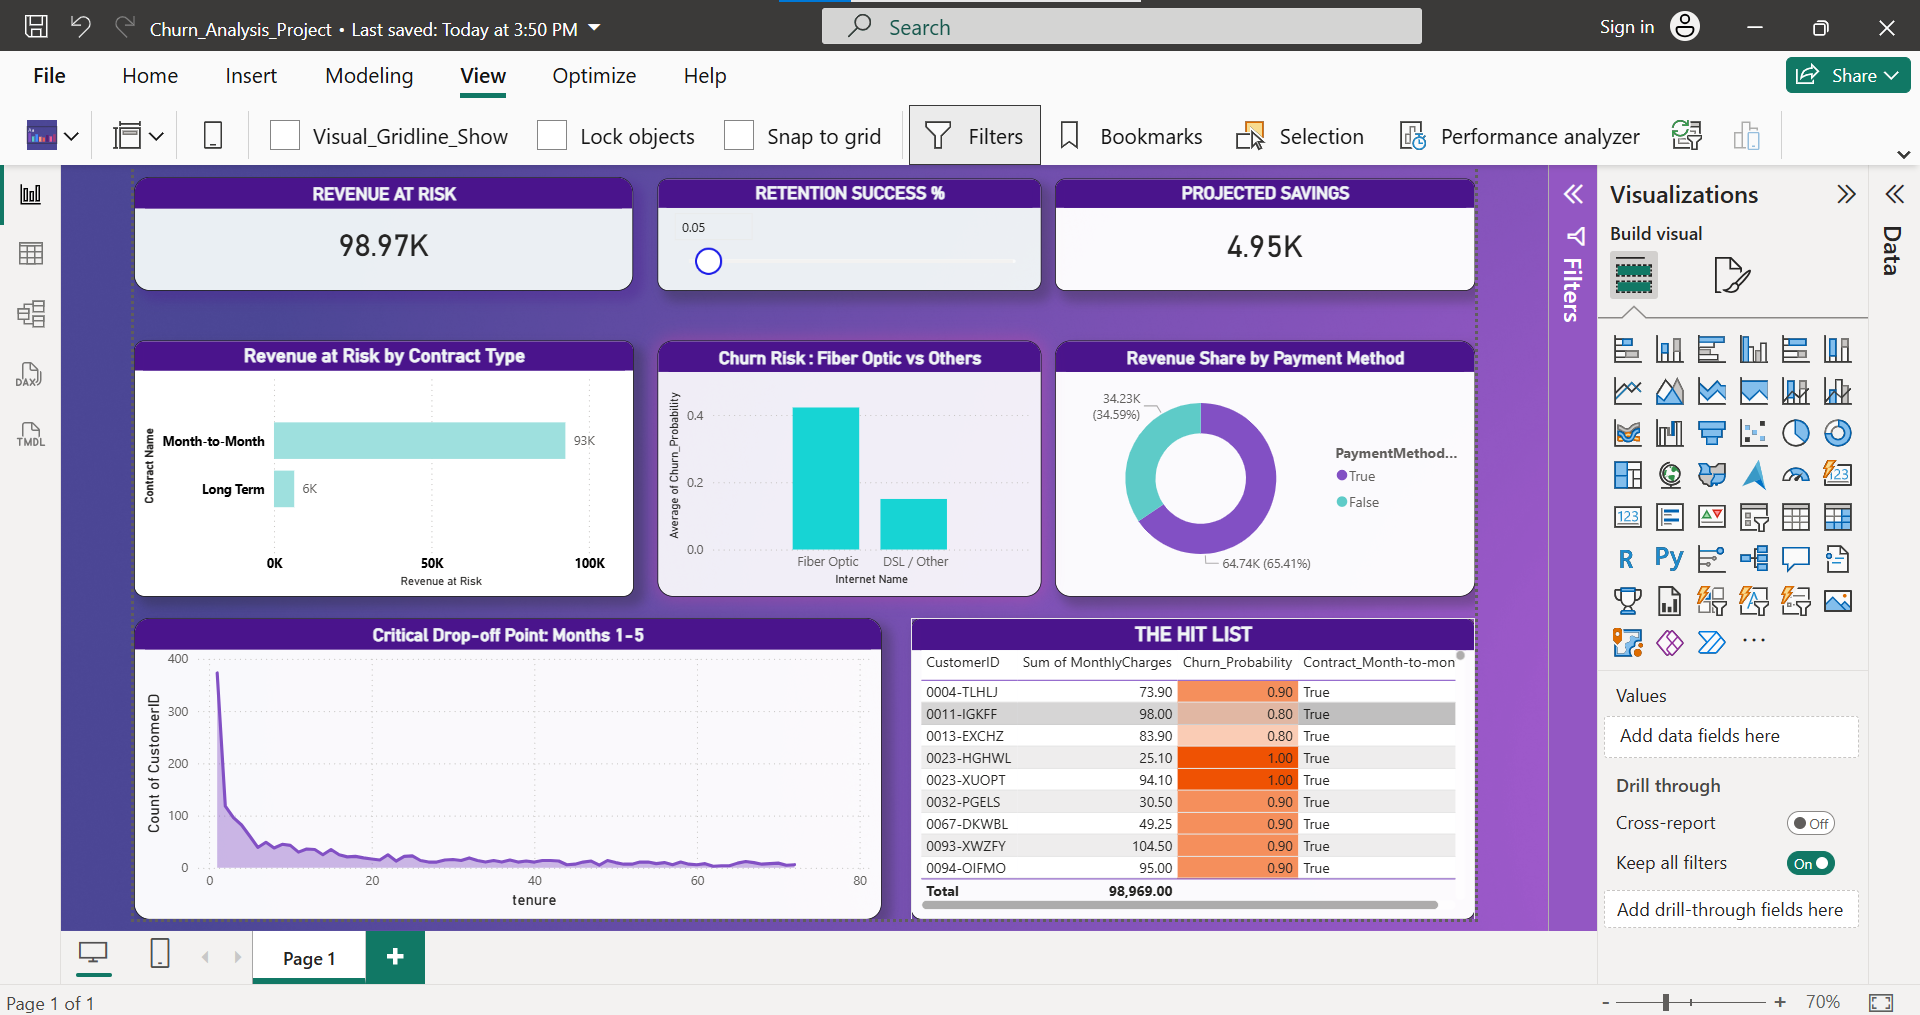

Layout of this report page (visuals, bound fields, positions):
{"tool":"powerbi","page":{"name":"Page 1","canvas":[1280,720],"ordinal":0},"visuals":[{"type":"slicer","title":"RETENTION SUCCESS %","fields":{"Values":["Retention Success %.Retention Success %"]},"box":[499.9,12.9,366.7,107.4],"z":0},{"type":"card","title":"REVENUE AT RISK","fields":{"Values":["Ready_For_PowerBI.Revenue at Risk"]},"box":[0,11.5,477,108.9],"z":1},{"type":"card","title":"PROJECTED SAVINGS ","fields":{"Values":["Ready_For_PowerBI.Projected Savings"]},"box":[879.5,12.9,401.1,107.4],"z":2},{"type":"clusteredBarChart","title":"Revenue at Risk by Contract Type","fields":{"Y":["Ready_For_PowerBI.Revenue at Risk"],"Category":["Ready_For_PowerBI.Contract Name"]},"box":[0,167,477.2,245],"z":3},{"type":"tableEx","title":"THE HIT LIST","fields":{"Values":["Ready_For_PowerBI.CustomerID","Sum(Ready_For_PowerBI.MonthlyCharges)","Ready_For_PowerBI.Churn_Probability","Ready_For_PowerBI.Contract_Month-to-month"]},"box":[742,432.6,538.6,287.9],"z":4},{"type":"donutChart","title":"Revenue Share by Payment Method","fields":{"Y":["Ready_For_PowerBI.Revenue at Risk"],"Category":["Ready_For_PowerBI.PaymentMethod_Electronic check"]},"box":[879.5,167.6,401.1,244.9],"z":5},{"type":"clusteredColumnChart","title":"Churn Risk : Fiber Optic vs Others ","fields":{"Y":["Avg(Ready_For_PowerBI.Churn_Probability)"],"Category":["Ready_For_PowerBI.Internet Name"]},"box":[499.9,167.6,366.7,244.9],"z":6},{"type":"areaChart","title":"Critical Drop-off Point: Months 1-5","fields":{"Category":["Ready_For_PowerBI.tenure"],"Y":["CountNonNull(Ready_For_PowerBI.CustomerID)"]},"box":[0,432.6,714.2,287.9],"z":7}]}

Visuals, with their boxes on the page's 1280x720 design canvas (x1, y1, x2, y2). These are canvas units, not pixel positions in the 1920x1015 screenshot, which may show the page scaled, cropped or inside an application window:
"RETENTION SUCCESS %" slicer: BBox(500, 13, 867, 120)
"REVENUE AT RISK" card: BBox(0, 12, 477, 120)
"PROJECTED SAVINGS " card: BBox(880, 13, 1281, 120)
"Revenue at Risk by Contract Type" clusteredBarChart: BBox(0, 167, 477, 412)
"THE HIT LIST" tableEx: BBox(742, 433, 1281, 720)
"Revenue Share by Payment Method" donutChart: BBox(880, 168, 1281, 412)
"Churn Risk : Fiber Optic vs Others " clusteredColumnChart: BBox(500, 168, 867, 412)
"Critical Drop-off Point: Months 1-5" areaChart: BBox(0, 433, 714, 720)
